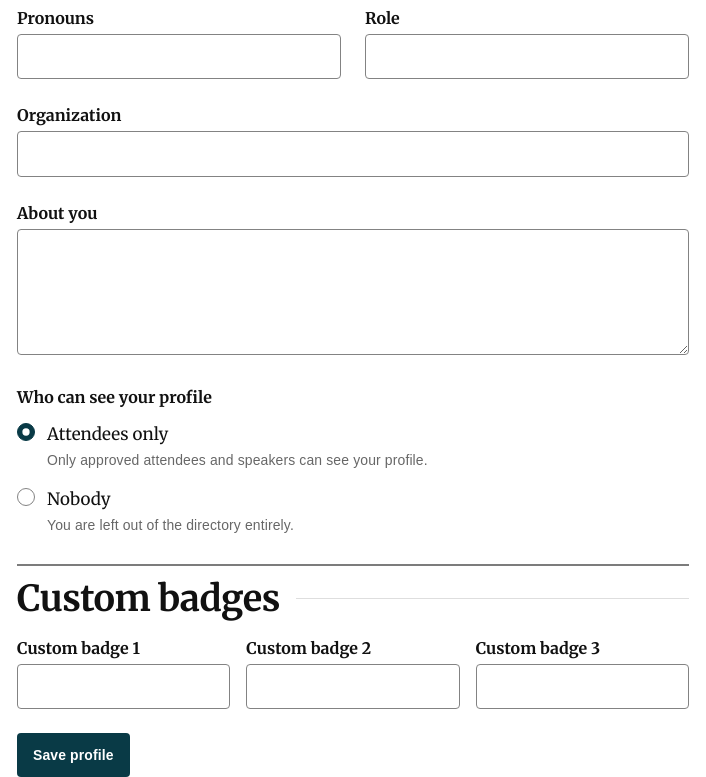
it: Profile › refuses a custom badge rejected by the live block list and focuses its field
(page scrolled)
Type "Crypto fan" into the field labelled "Custom badge 2" at coordinates (353, 687), box [246, 664, 460, 709]
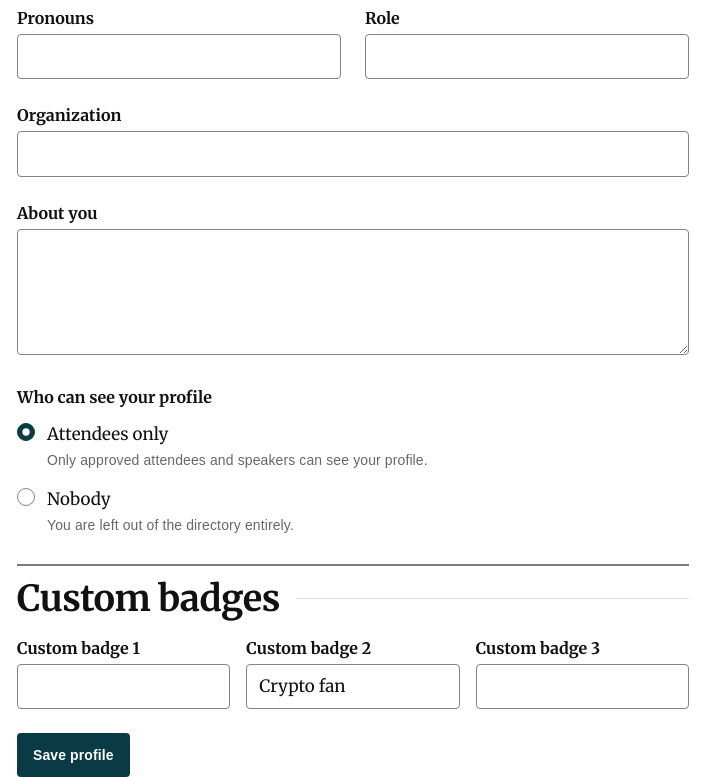
Click the button "Save profile" at coordinates (73, 755), box [17, 733, 130, 776]
(page scrolled)
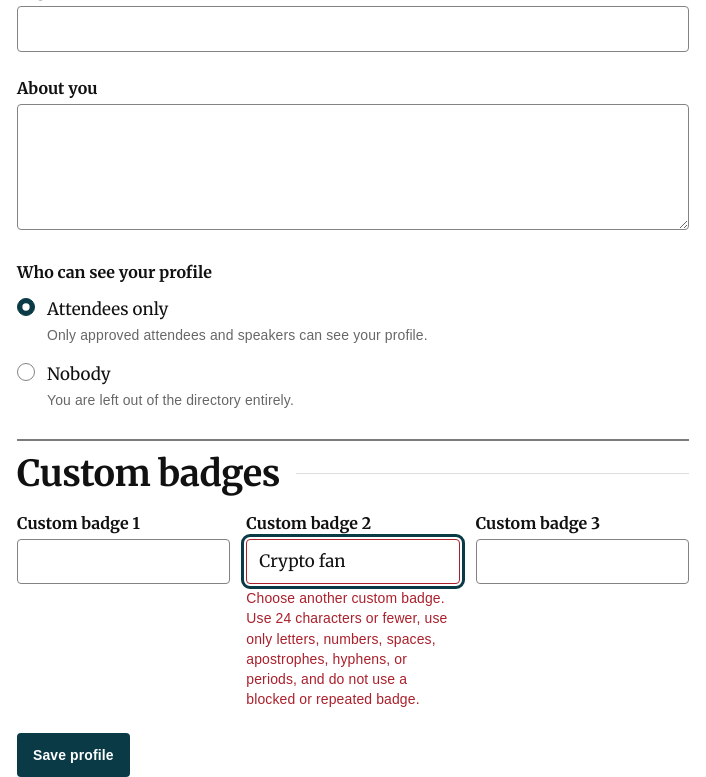
Expected: the message shows "blocked or repeated badge", [246, 590, 447, 707]
